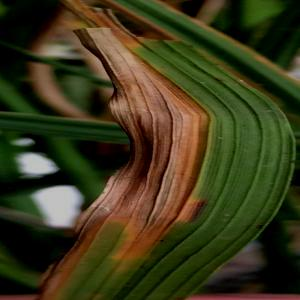2 BacterialBlight: (101, 46, 279, 269)
